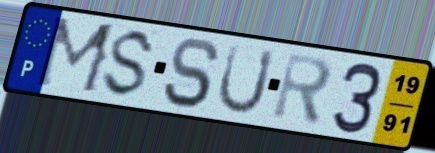3: (328, 59, 385, 136)
M: (33, 15, 120, 98)
R: (269, 49, 335, 129)
S: (160, 36, 223, 111), (98, 27, 159, 100)
U: (214, 41, 278, 117)
